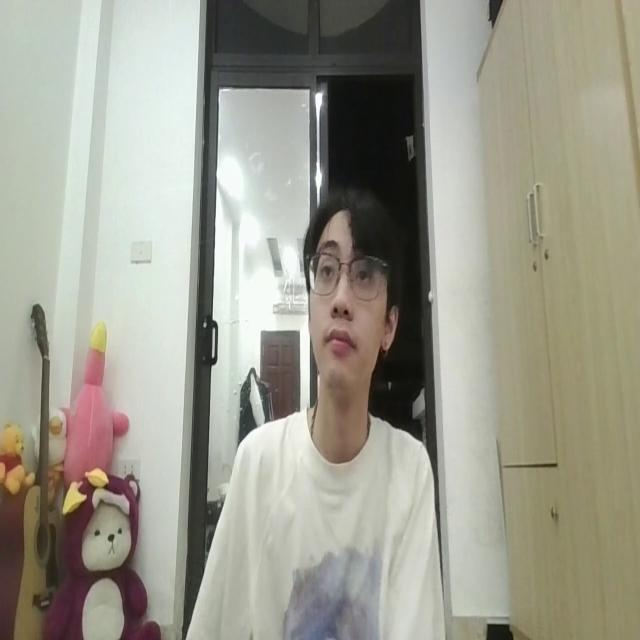student: (161, 184, 436, 640)
